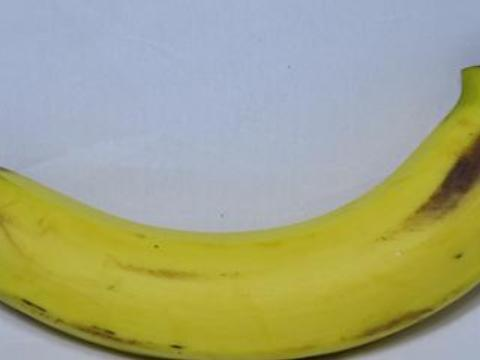freshripe: (0, 61, 479, 359)
